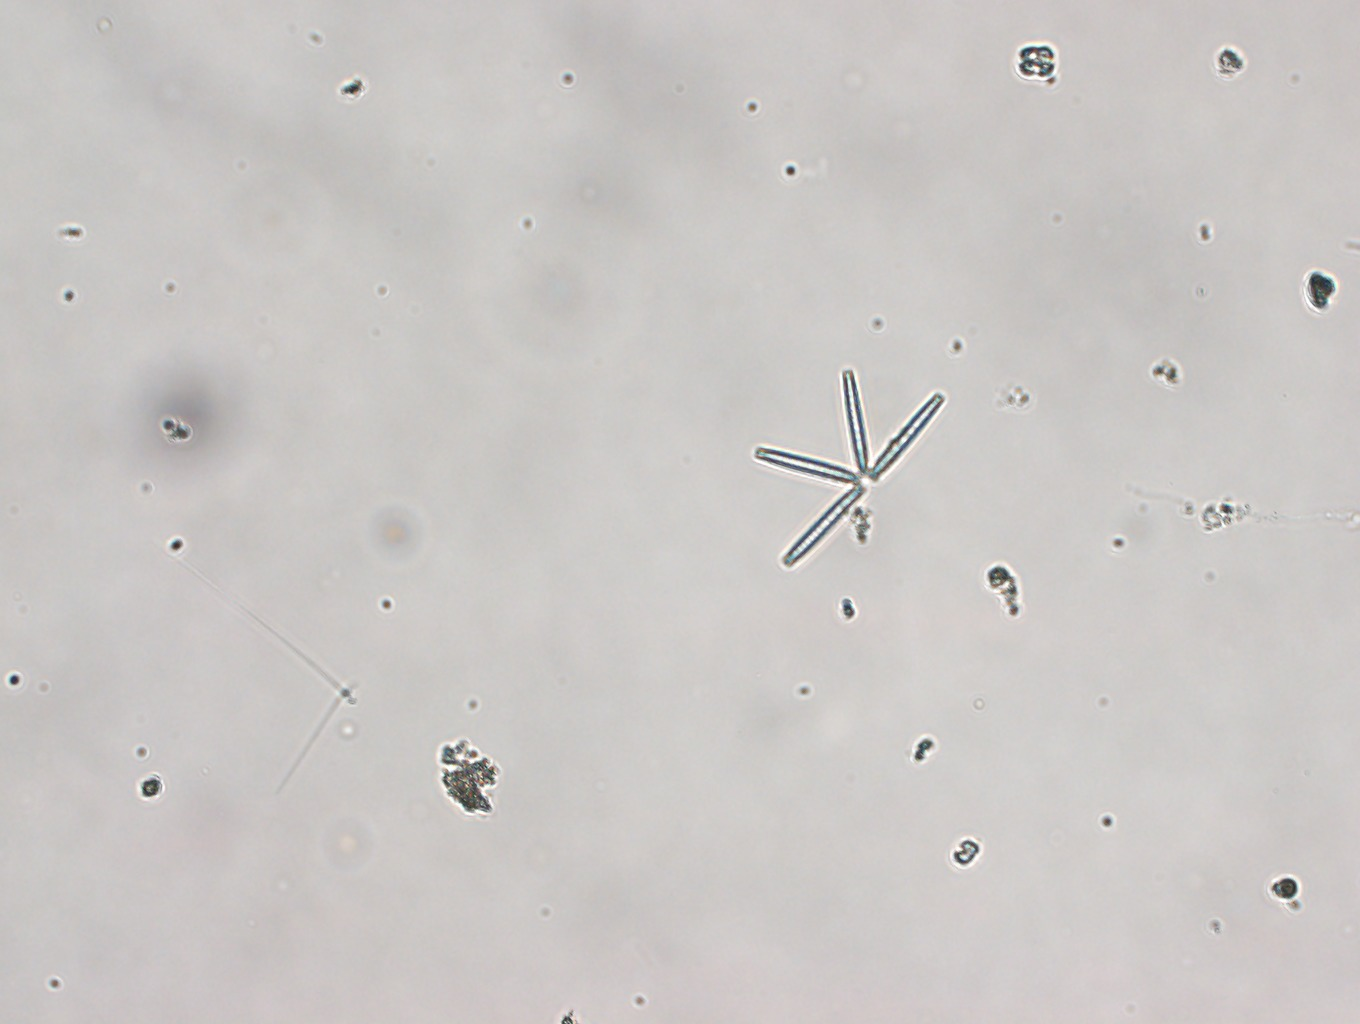thalassionema nitzschioides: (747, 362, 948, 577)
